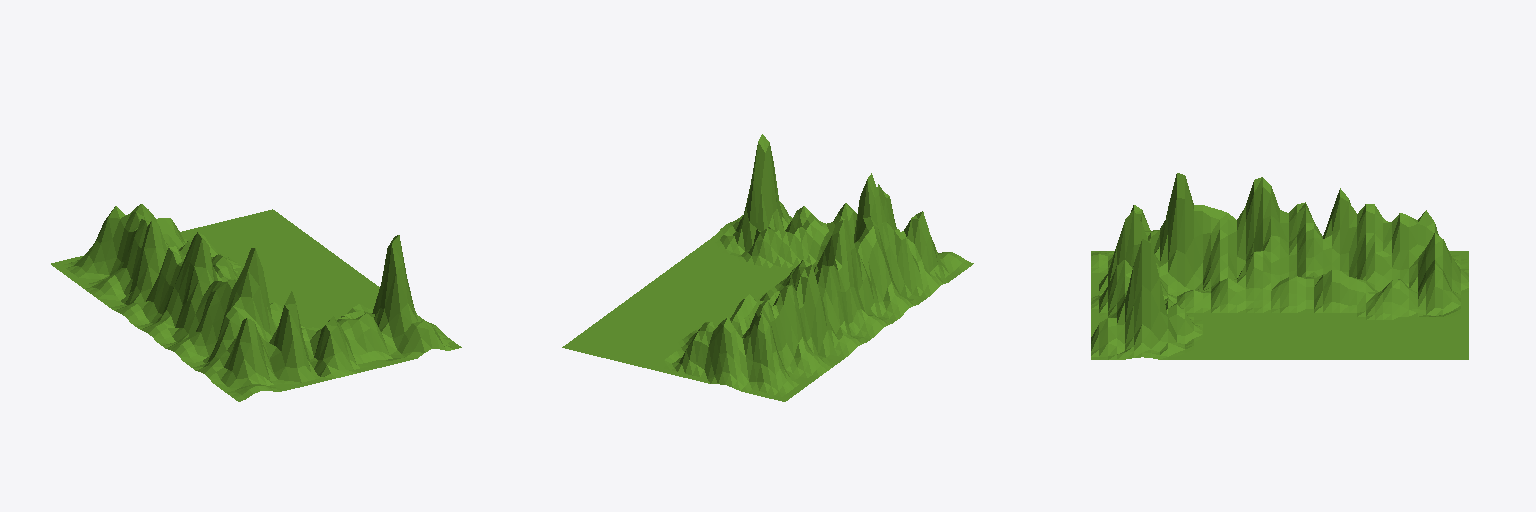
Rendered from margalla.obj.
3 views of the same model, side by side, from view 1: azimuth 30°, elevation 25°; view 2: azimuth 150°, elevation 25°; view 3: azimuth 270°, elevation 25° (orthographic).
Parts seen in each view (by area): view 1: Mesh1 Model; view 2: Mesh1 Model; view 3: Mesh1 Model.
Boxes of the visible parts, <box> form: Mesh1 Model: <box>51,204,461,401</box>; Mesh1 Model: <box>562,134,973,401</box>; Mesh1 Model: <box>1091,173,1468,359</box>.
Size of the model in its own units: 3600 by 1789 by 5280.